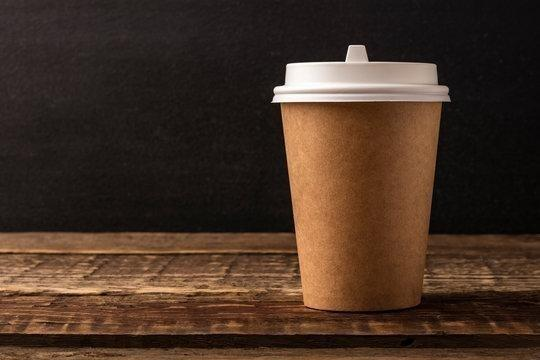cup-disposable: (270, 55, 452, 316)
